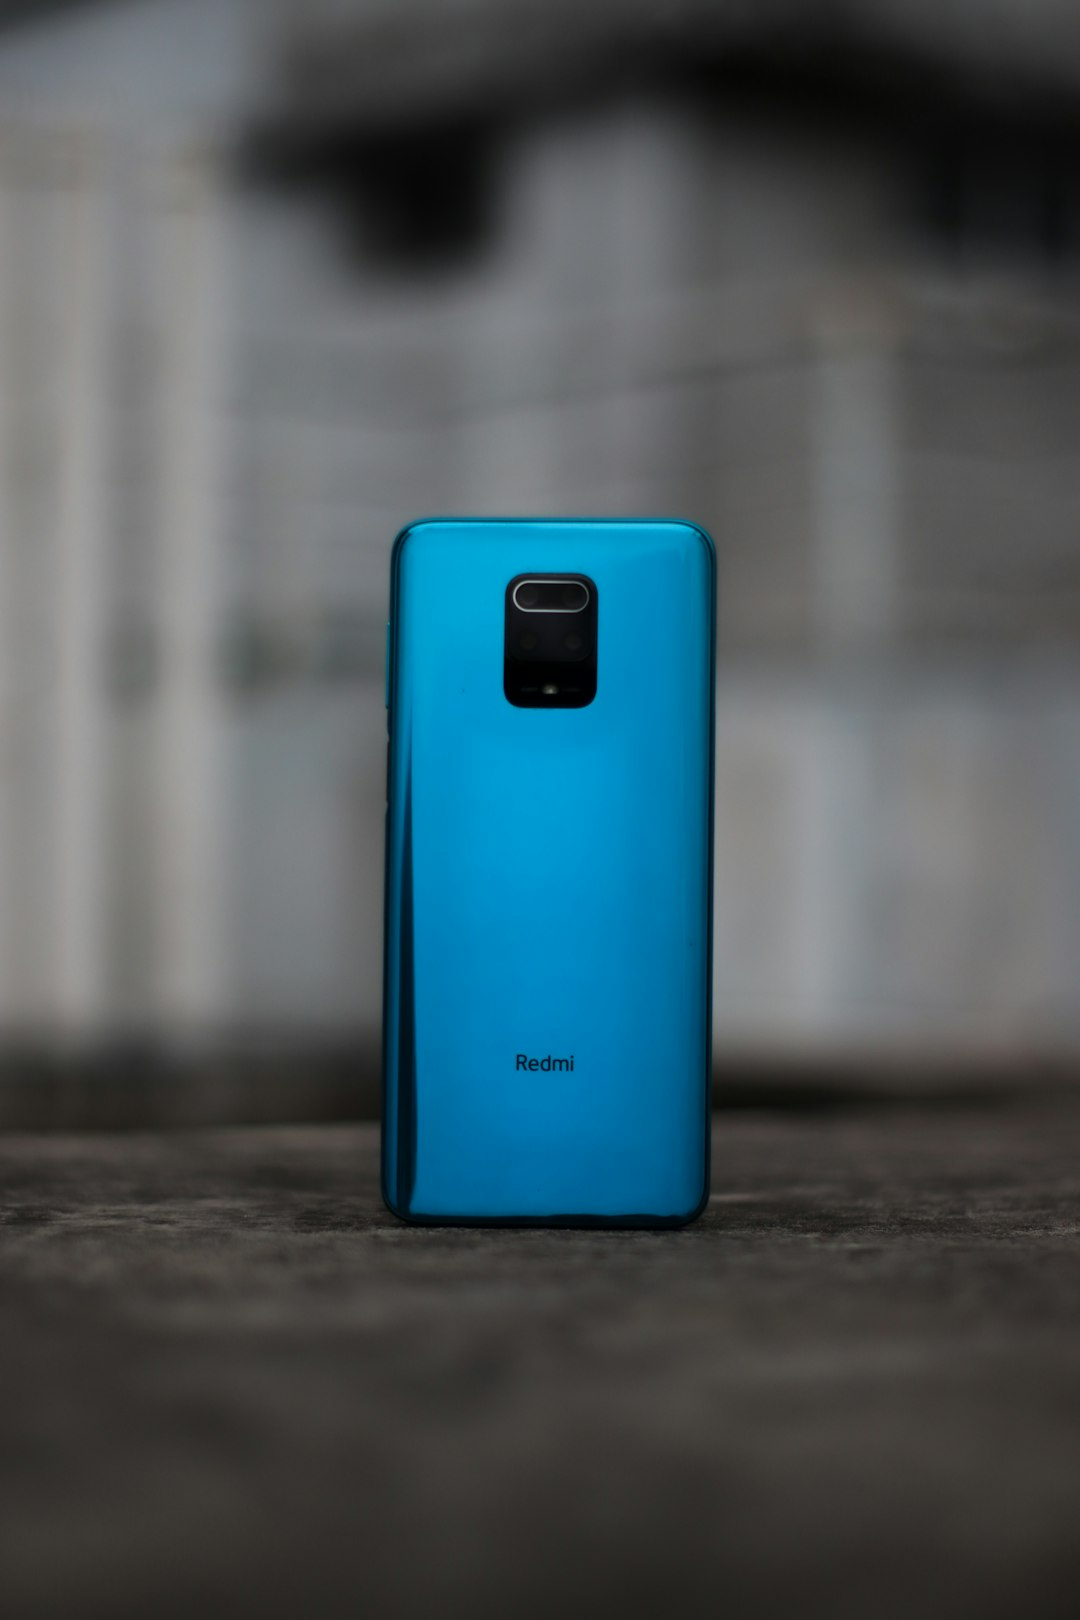phone: (385, 515, 714, 1235)
